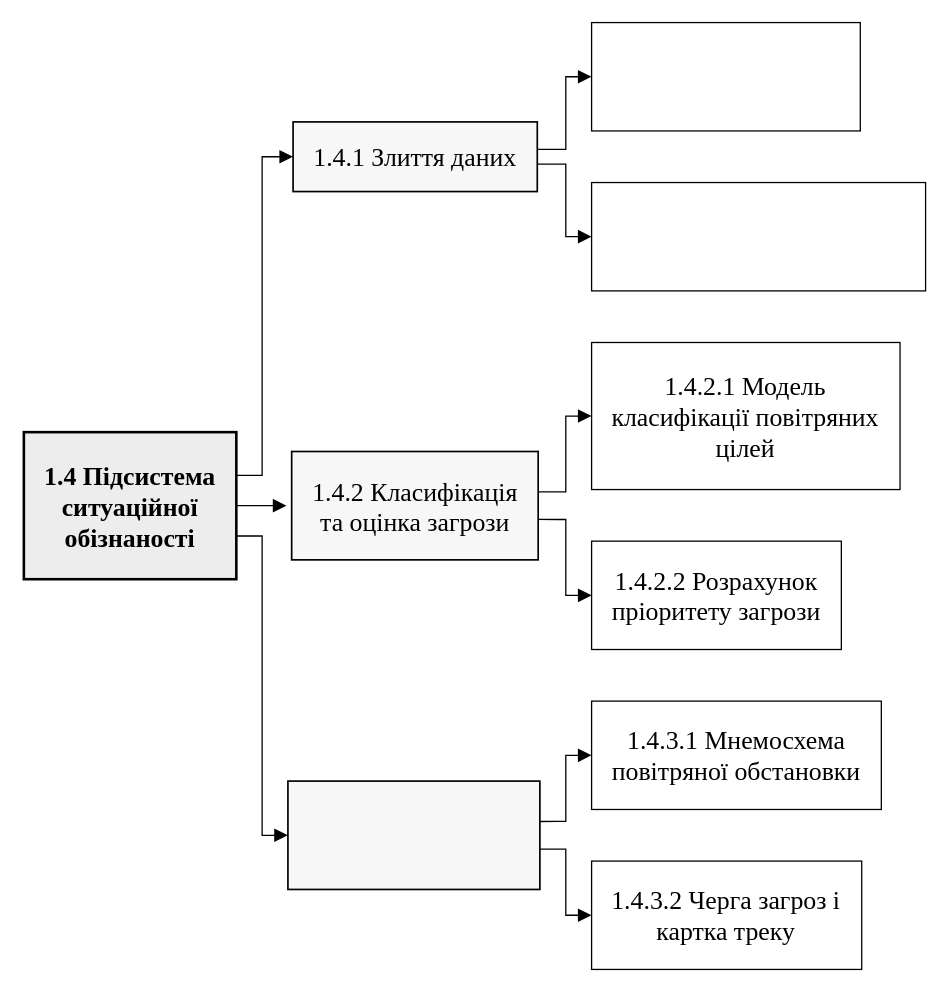
This 948x992 diagram has some shape labels left out. The shapes that lost their labels are listed below. From the top down, each one's centre as x and y in pixels, then its label:
(725,76): 1.4.1.1 Сервіс злиття виявлень у треки
(758,236): 1.4.1.2 Прогноз траєкторій і часу підльоту
(413,835): 1.4.3 Інтерфейс командного пункту
